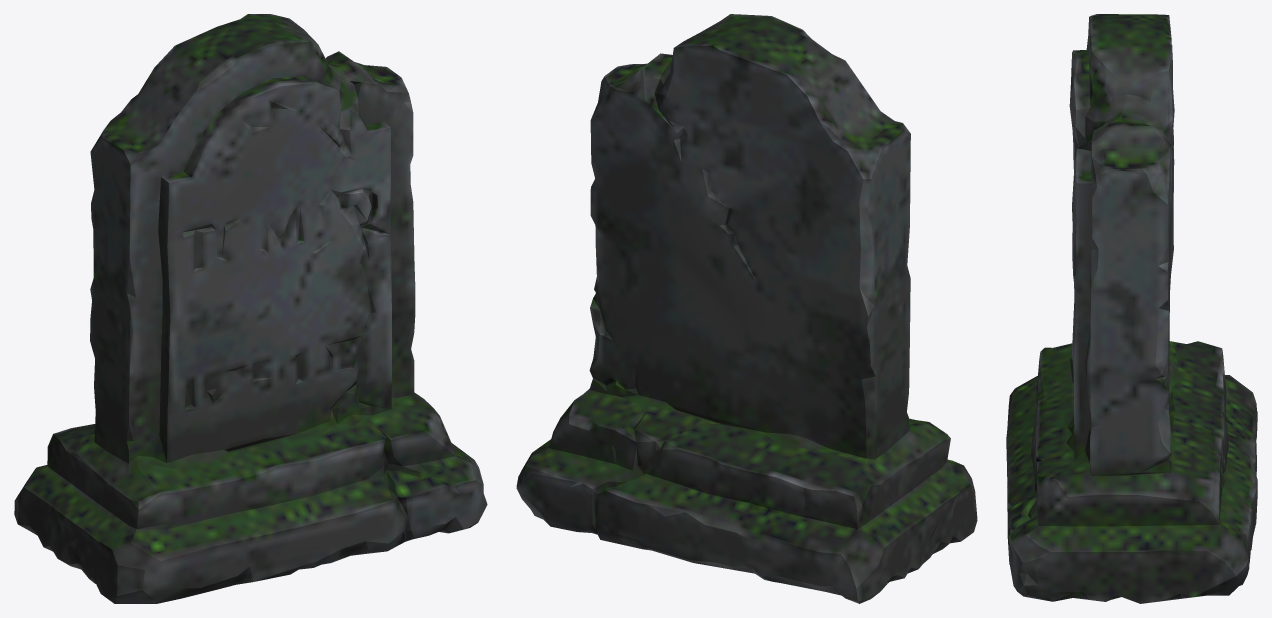
File: Grave3.fbx
3 views of the same model, side by side, from view 1: azimuth 30°, elevation 25°; view 2: azimuth 150°, elevation 25°; view 3: azimuth 270°, elevation 25° (orthographic).
Visible parts, largest first — view 1: Grave3_LOD0; view 2: Grave3_LOD0; view 3: Grave3_LOD0.
Part boxes in pixels (x1,y1,x2,y2): Grave3_LOD0: (14, 14, 487, 603); Grave3_LOD0: (516, 14, 977, 603); Grave3_LOD0: (1006, 14, 1257, 603).
Size of what is drawn, in the model's own units: 0.6002 by 0.3624 by 0.7799.
